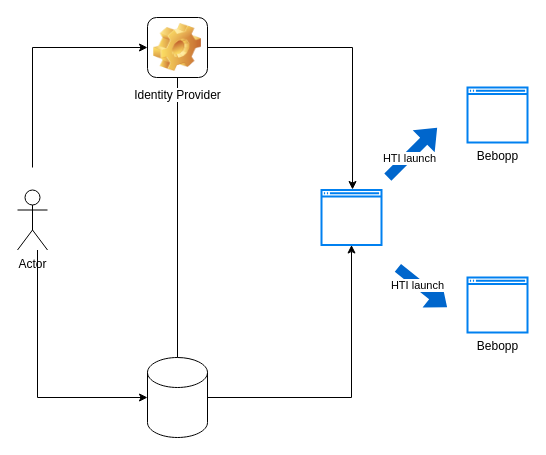
The diagram is 546 pixels wide and 455 high, and some of its shapes have lost their labels. Here are the shapes that lost their labels. From the top down, the centre of each, then its label:
At point 351,217: "Welldata portal".
At point 177,397: "POD".
